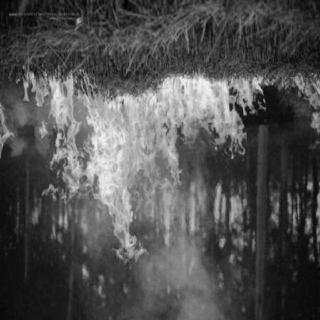Fire: (2, 68, 318, 266)
